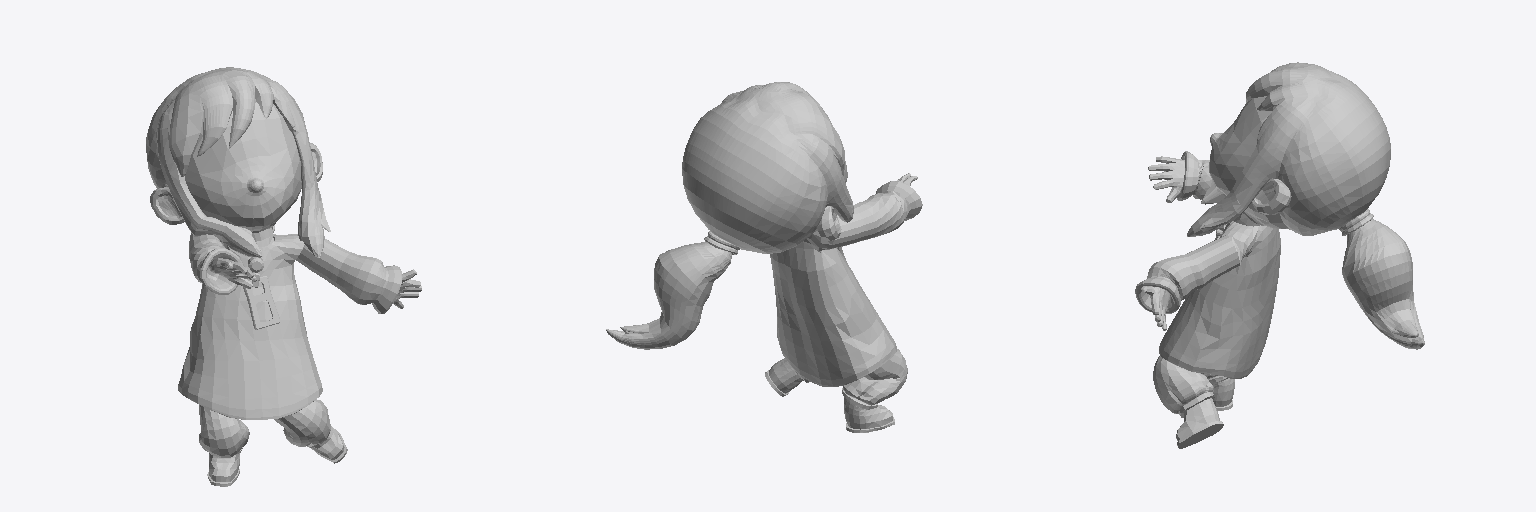
The picture shows the model from 3 angles: view 1: azimuth 30°, elevation 25°; view 2: azimuth 150°, elevation 25°; view 3: azimuth 270°, elevation 25°; orthographic projection.
Parts seen in each view (by area): view 1: hatkidbody.png, hatkidhair.png, hatkidbody; view 2: hatkidhair.png, hatkidbody.png, hatkidhair, hatkidbody; view 3: hatkidbody.png, hatkidhair.png, hatkidhair, hatkidbody.
Boxes of the visible parts, box(x1,y1,x2,y2) form: hatkidbody.png: box(150, 102, 421, 419); hatkidhair.png: box(146, 67, 330, 258); hatkidbody: box(199, 399, 347, 486); hatkidhair.png: box(682, 82, 853, 253); hatkidbody.png: box(770, 161, 922, 386); hatkidhair: box(606, 231, 739, 349); hatkidbody: box(765, 349, 907, 432); hatkidbody.png: box(1135, 96, 1291, 378); hatkidhair.png: box(1187, 62, 1390, 236); hatkidhair: box(1339, 209, 1424, 349); hatkidbody: box(1153, 356, 1234, 448).
Bounding box in the file's own units: 41.23 × 67.36 × 49.44.